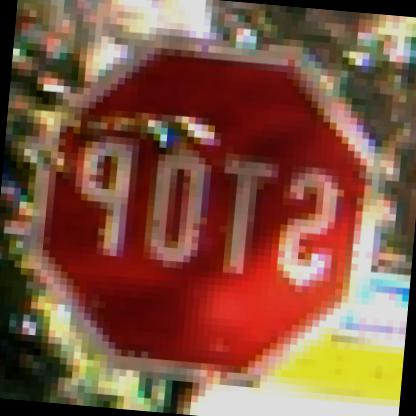stop: (24, 23, 376, 391)
